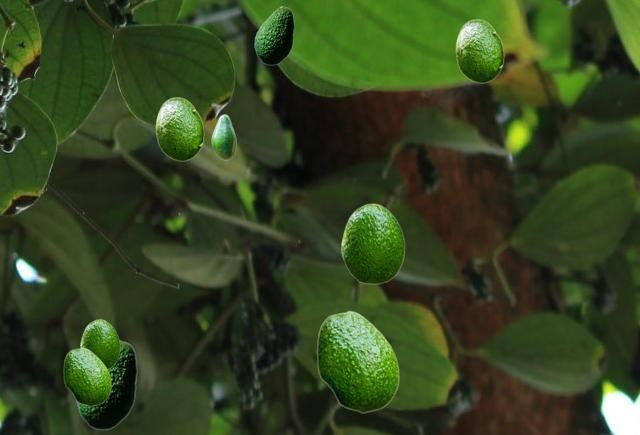avocado: (316, 310, 398, 412), (76, 340, 136, 429), (341, 203, 404, 283), (155, 97, 203, 160), (455, 19, 503, 82), (63, 347, 110, 405), (254, 6, 293, 64), (80, 319, 119, 369), (211, 114, 235, 159)
